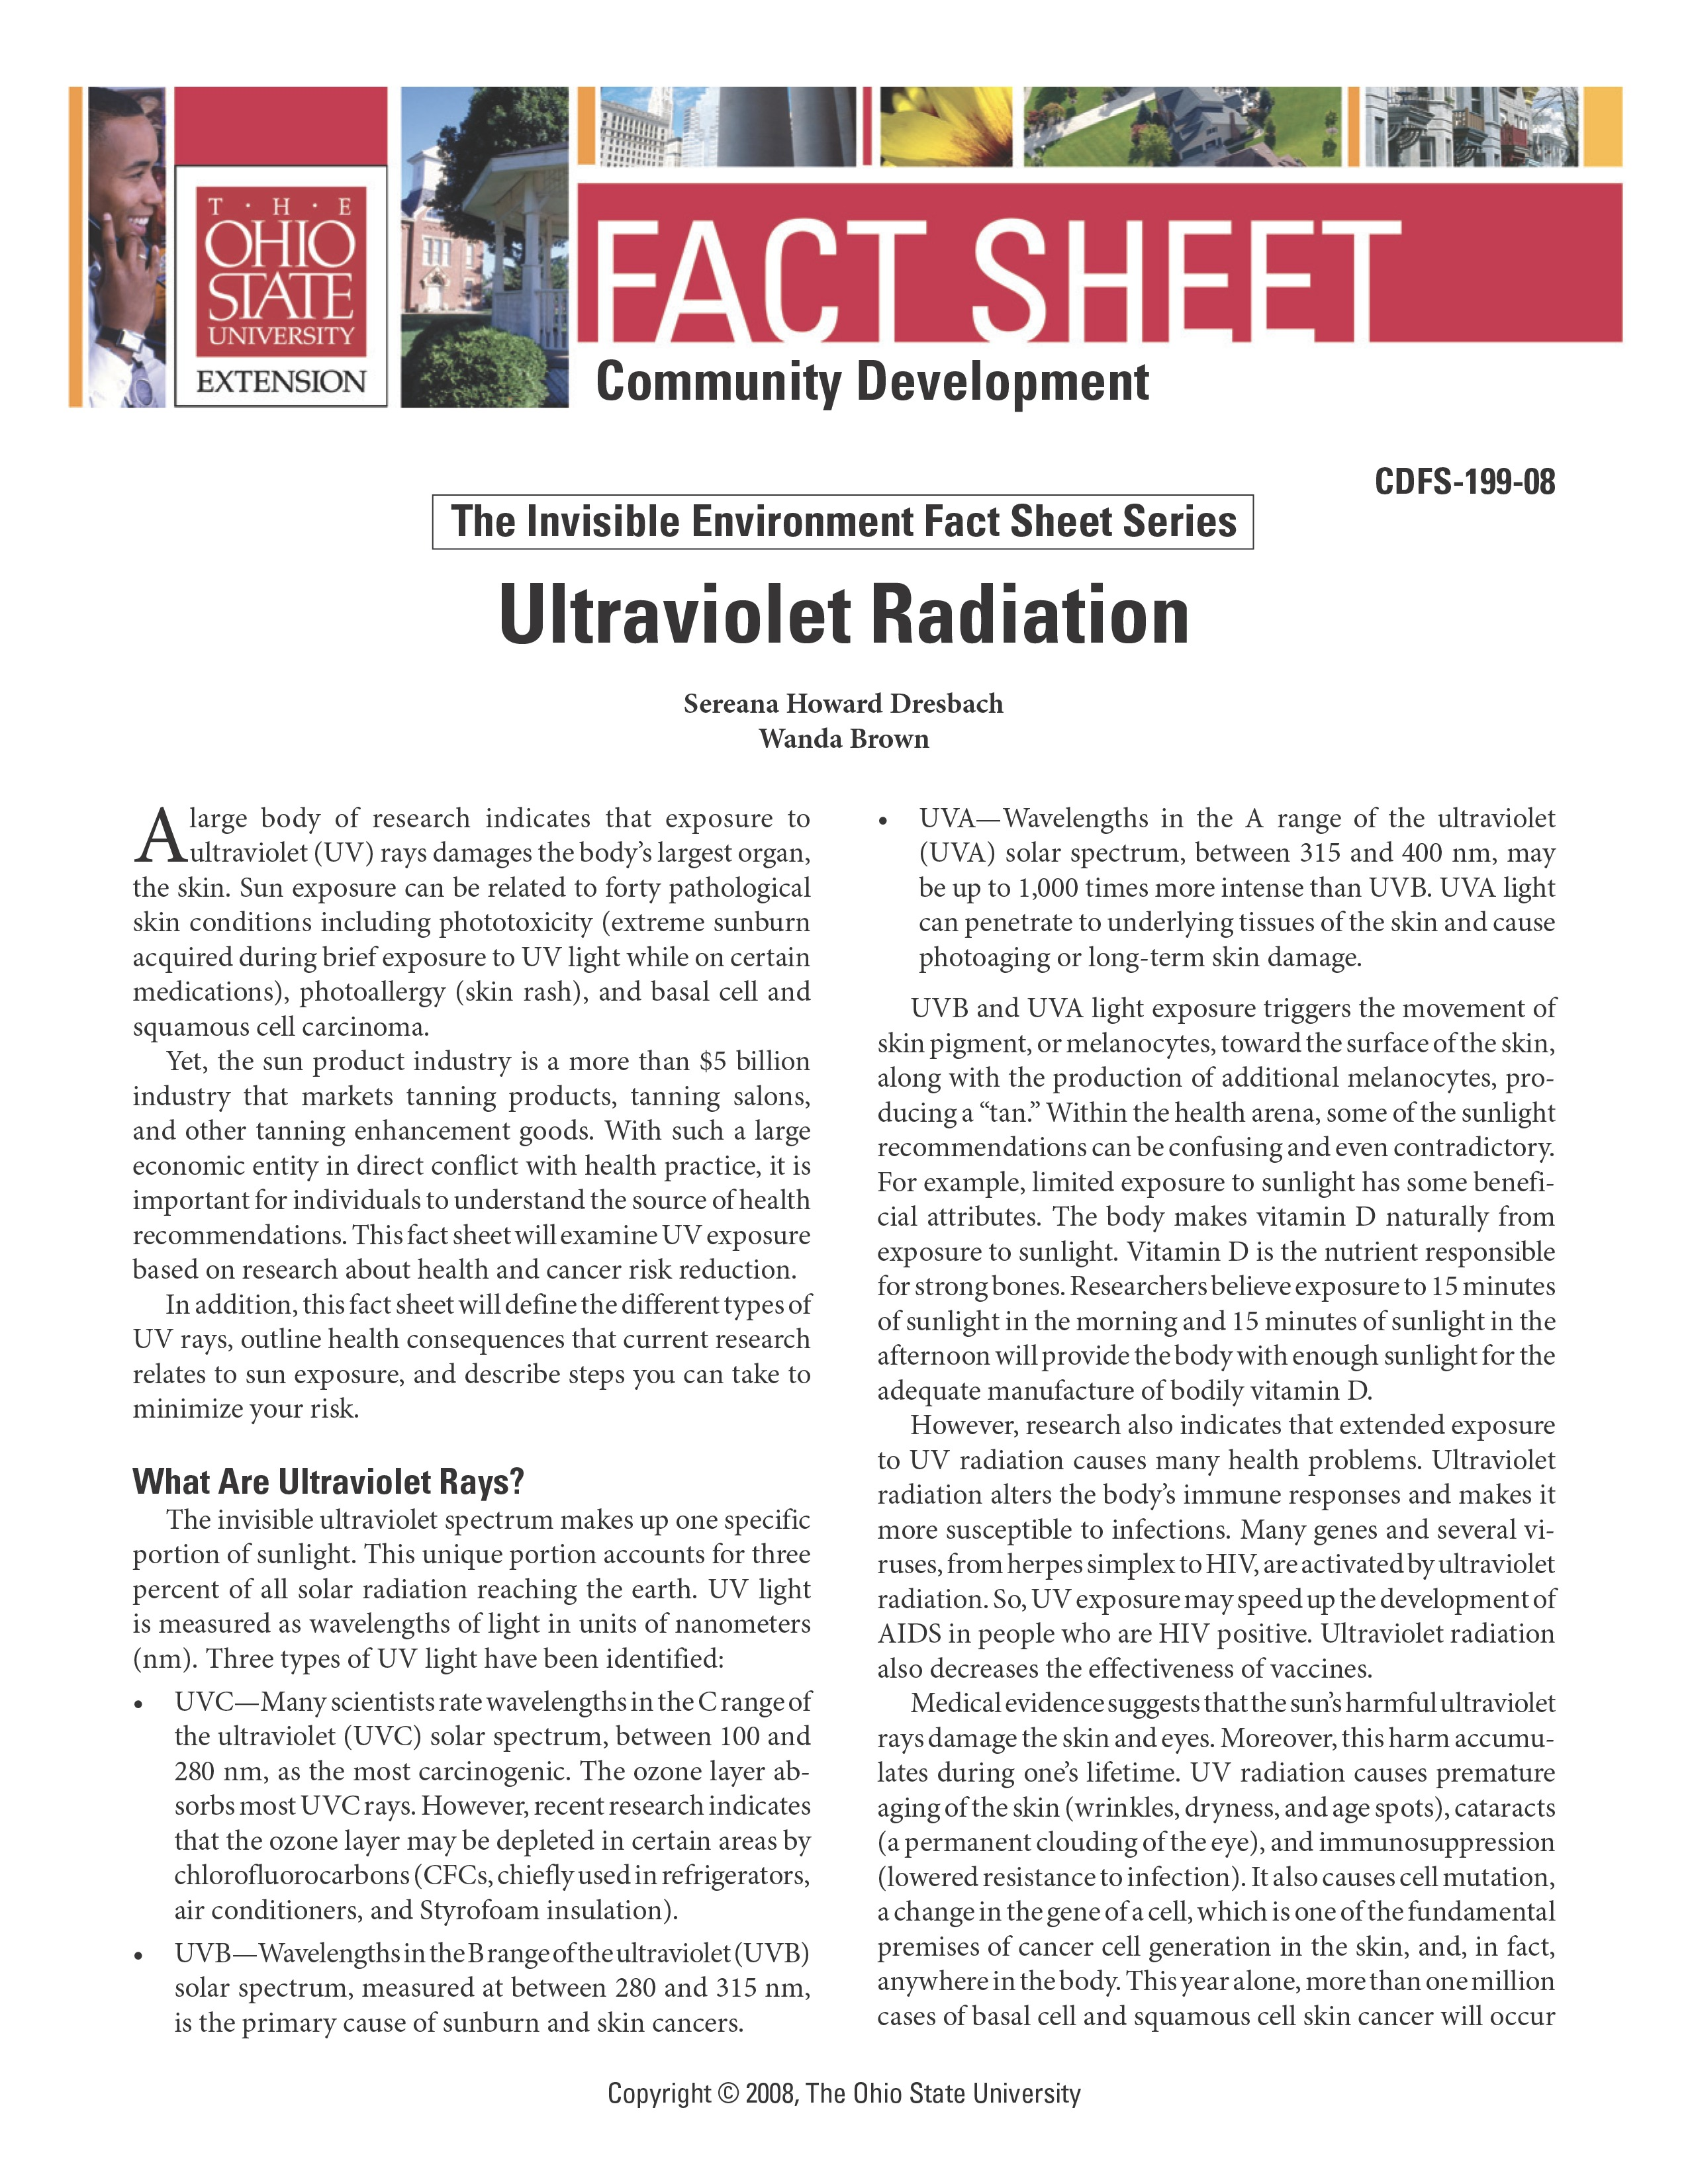figure: (87, 92, 585, 417), (598, 80, 1638, 161)
list: (112, 1675, 833, 2048), (865, 803, 1576, 959)
section: (596, 183, 1385, 347), (424, 482, 1278, 565), (496, 578, 1216, 661), (598, 349, 1170, 420), (663, 681, 1025, 757), (129, 1454, 546, 1500)
text: (133, 773, 816, 1427), (883, 986, 1569, 1395), (865, 1686, 1562, 2039), (872, 1411, 1566, 1679), (112, 1514, 849, 1661)
